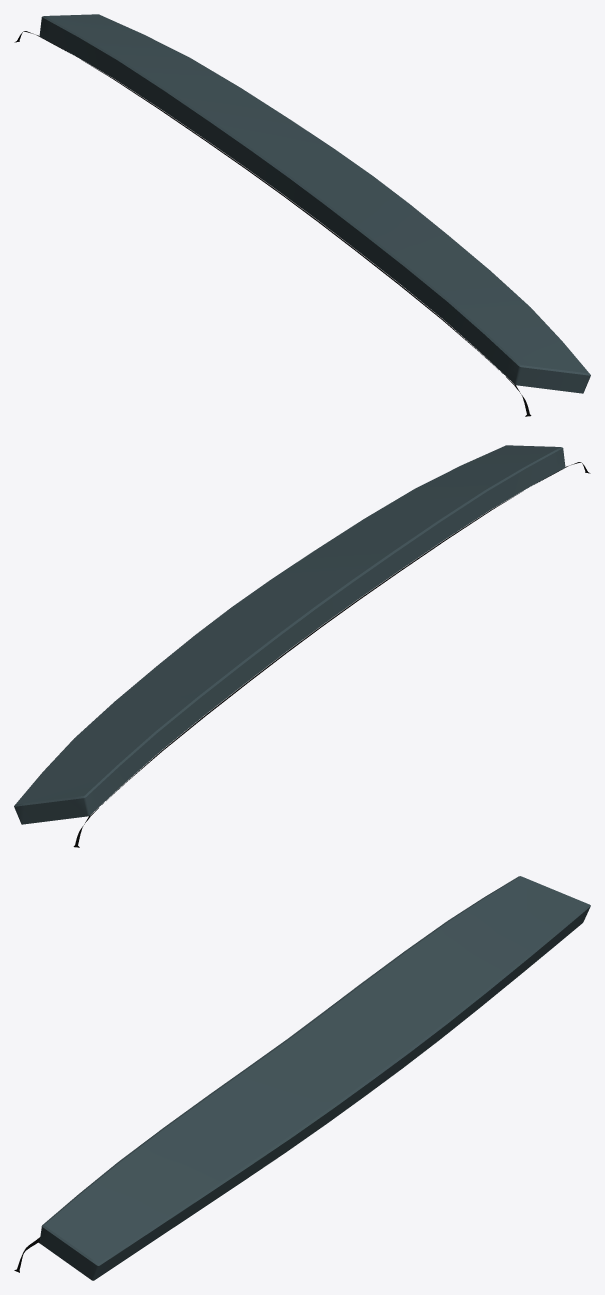
The picture shows the model from 3 angles, top to bottom: view 1: azimuth 30°, elevation 25°; view 2: azimuth 150°, elevation 25°; view 3: azimuth 330°, elevation 25°; orthographic projection.
Visible parts, largest first — view 1: P222_15_541N_C_1_DaS_P222_15_541N_C, P222_15_541N_C_1_DaS_P222_15_541N_C_E, P222_15_541N_C_P222_15_541N_C_2_D; view 2: P222_15_541N_C_1_DaS_P222_15_541N_C, P222_15_541N_C_1_DaS_P222_15_541N_C_E, P222_15_541N_C_P222_15_541N_C_2_D; view 3: P222_15_541N_C_1_DaS_P222_15_541N_C, P222_15_541N_C_1_DaS_P222_15_541N_C_E.
Part boxes in pixels (box(x1,y1,x2,y2)): P222_15_541N_C_1_DaS_P222_15_541N_C: box(39, 14, 590, 393); P222_15_541N_C_1_DaS_P222_15_541N_C_E: box(42, 16, 590, 375); P222_15_541N_C_P222_15_541N_C_2_D: box(14, 31, 531, 416); P222_15_541N_C_1_DaS_P222_15_541N_C: box(14, 445, 565, 824); P222_15_541N_C_1_DaS_P222_15_541N_C_E: box(14, 447, 562, 806); P222_15_541N_C_P222_15_541N_C_2_D: box(73, 462, 590, 847); P222_15_541N_C_1_DaS_P222_15_541N_C: box(39, 876, 590, 1280); P222_15_541N_C_1_DaS_P222_15_541N_C_E: box(42, 876, 590, 1265).
Bounding box in the file's own units: 15.3 × 7.15 × 131.
